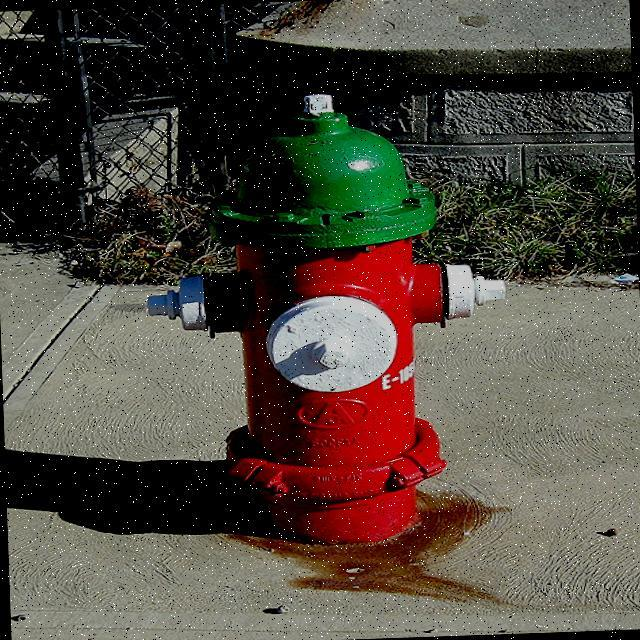fire_hydrant: (142, 91, 518, 554)
